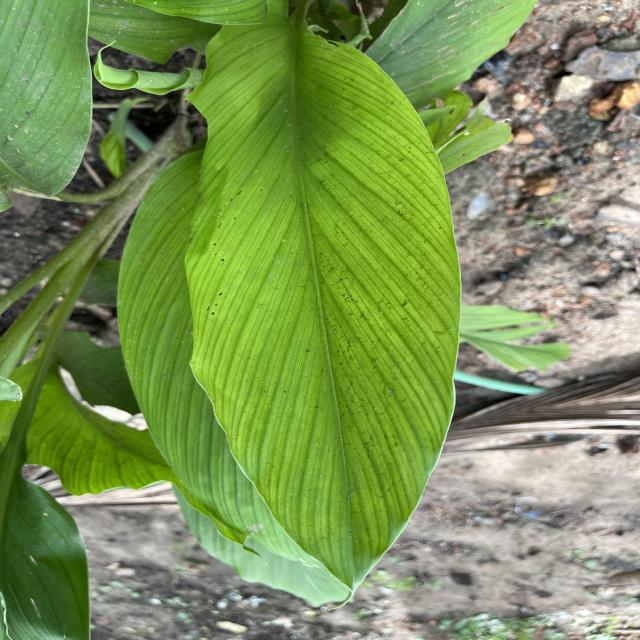Curcuma longa: (178, 5, 468, 617)
